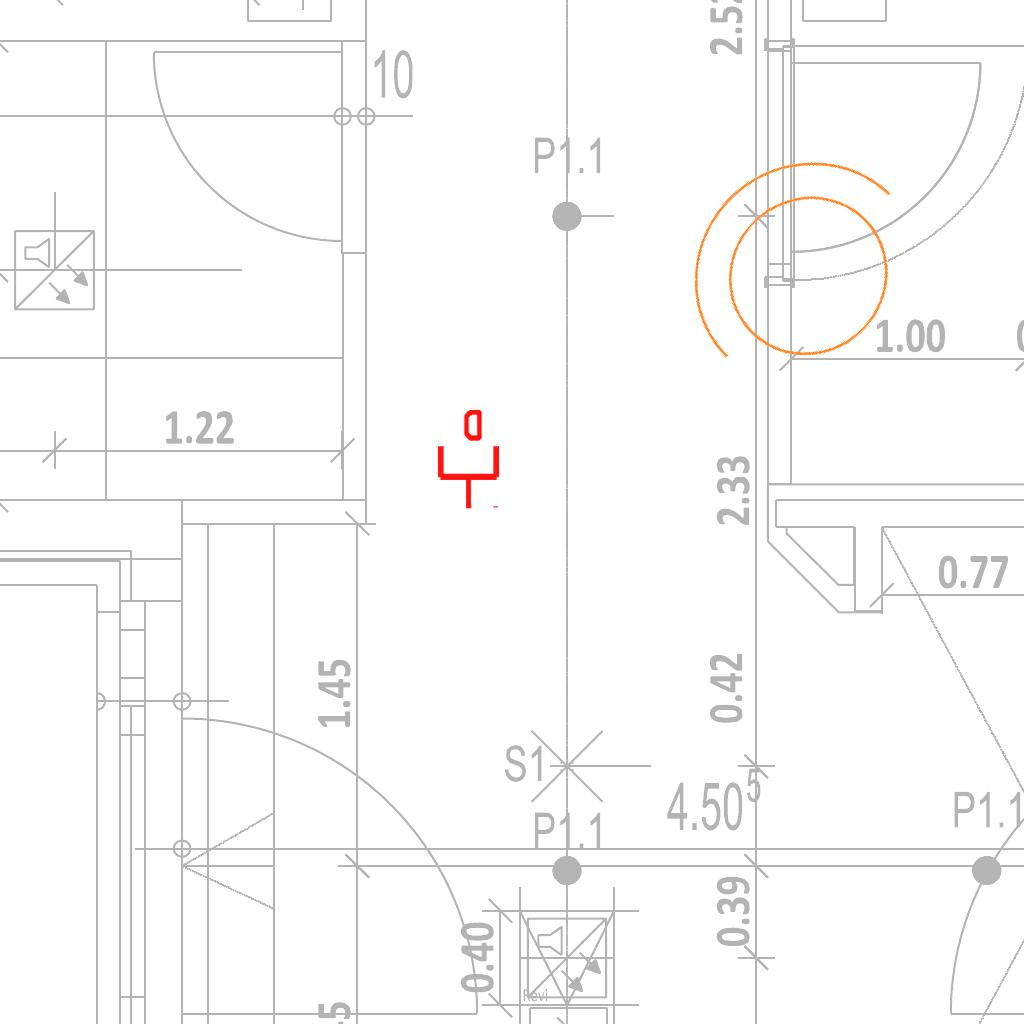Datenanschluss_einfach: (434, 410, 503, 510)
Scheinwerfer_fuer_Alarmbeleuchtung: (624, 100, 970, 447)
